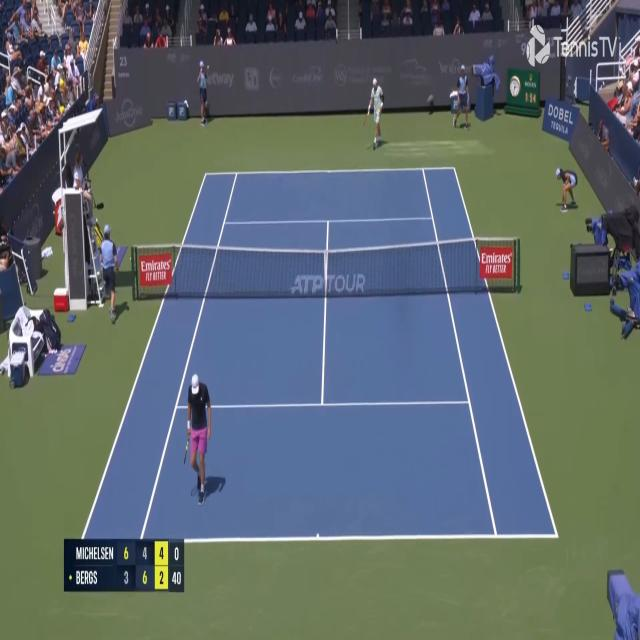tennis-player: (184, 371, 213, 511), (364, 75, 384, 151)
